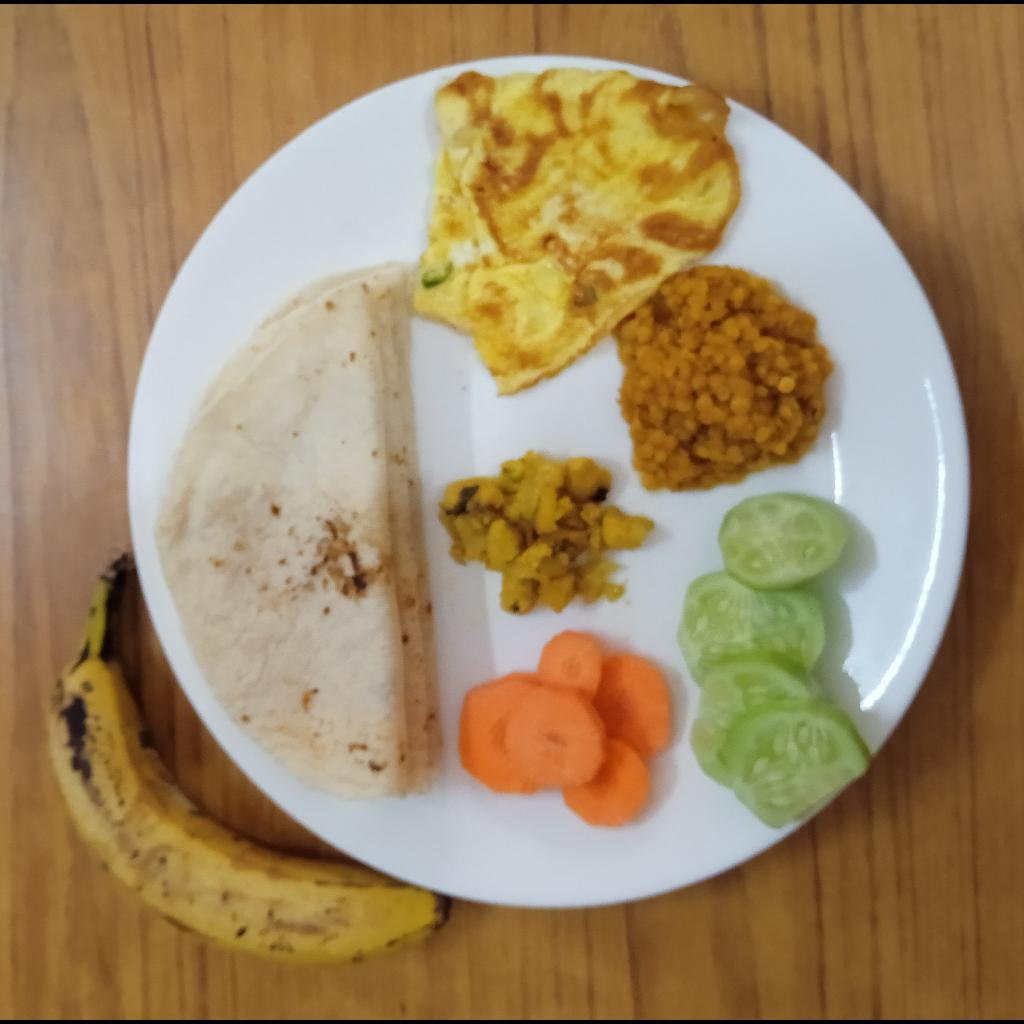banana: (48, 550, 453, 967)
carrot: (458, 629, 672, 827)
cucumber: (676, 493, 871, 830)
daal: (619, 265, 835, 491)
egg-poached: (411, 68, 742, 399)
ruti: (152, 264, 443, 804)
vegetable: (437, 447, 655, 616)
